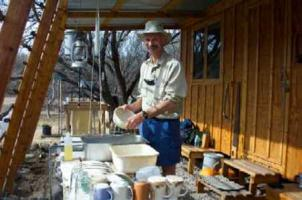person: (121, 21, 189, 178)
